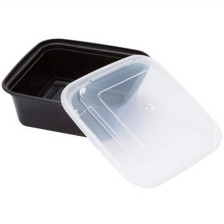plastic_box: (0, 30, 224, 194)
